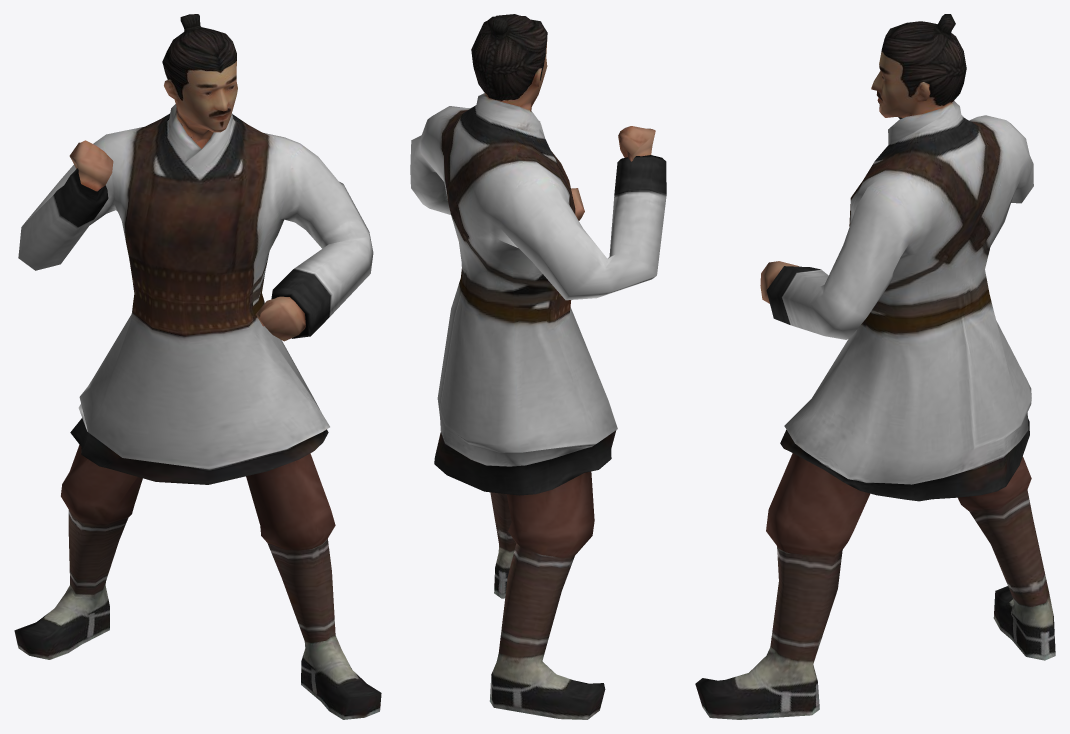
File: body-base.glb
The picture shows the model from 3 angles, left to right: view 1: azimuth 30°, elevation 25°; view 2: azimuth 150°, elevation 25°; view 3: azimuth 270°, elevation 25°; orthographic projection. The views are drawn at different scales.
Bounding box in the file's own units: 1 × 2.04 × 1.
1 material, 1 textured.
